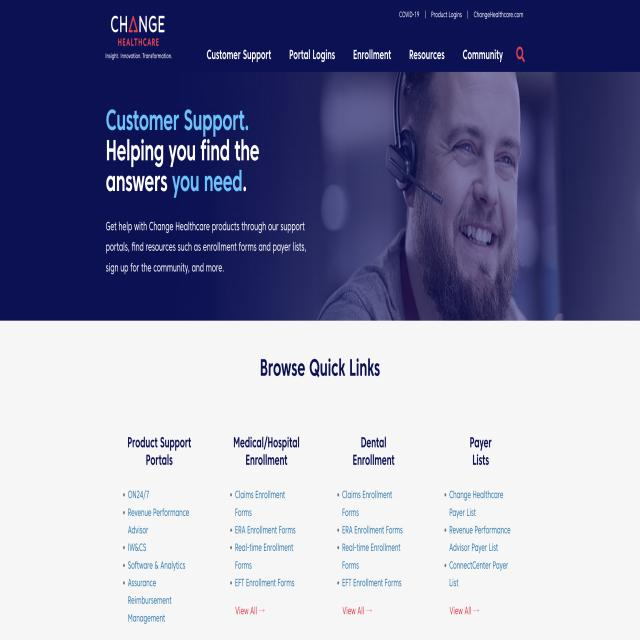Logo: (96, 3, 182, 72)
Navigation: (200, 35, 530, 72)
